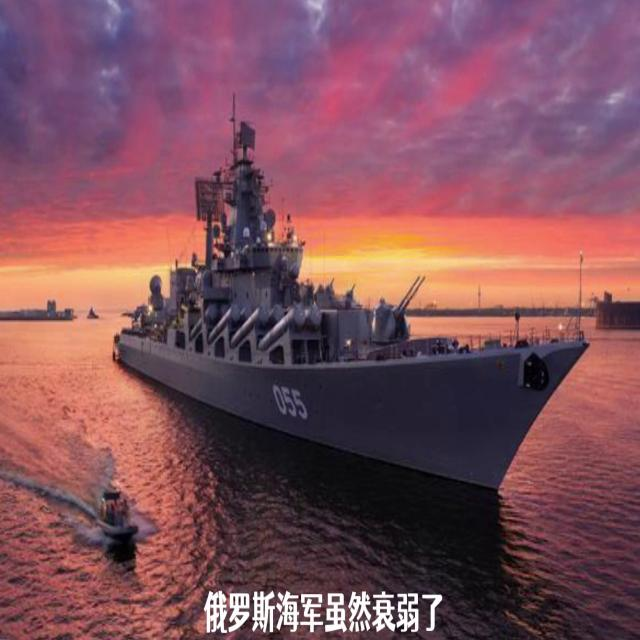houseboat: (97, 485, 137, 544)
navalvessels: (113, 117, 589, 495)
